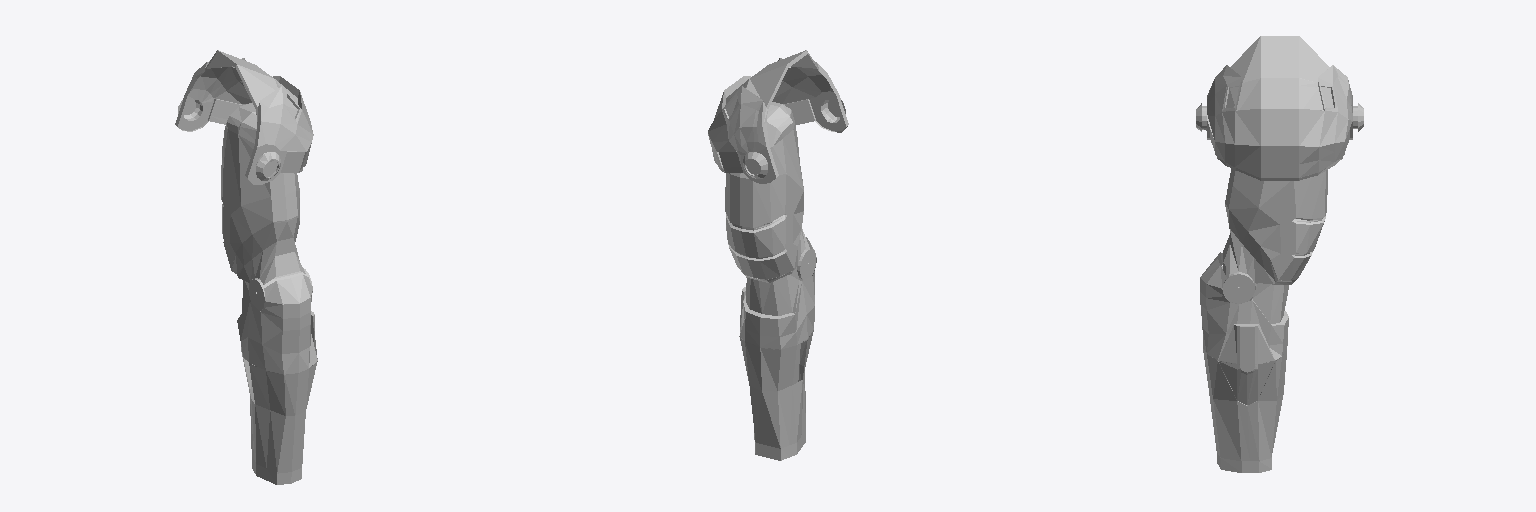
File: RightArm.obj
3 views of the same model, side by side, from view 1: azimuth 30°, elevation 25°; view 2: azimuth 150°, elevation 25°; view 3: azimuth 270°, elevation 25° (orthographic).
Parts seen in each view (by area): view 1: Mesh.005_Mesh.007_Mesh.005_Mesh.017_polySurface632_polySurface66, Mesh.004_Mesh.001_Mesh_Mesh.002_polySurface632_polySurface661, Mesh.002_Mesh.003_Mesh.003_Mesh.023_polySurface632_polySurface65, Mesh.007_Mesh.004_Mesh.001_Mesh.019_polySurface632_polySurface65, Mesh.003_Mesh.002_Mesh.004_Mesh.001_polySurface632_polySurface66, Mesh_Mesh_Mesh.002_Mesh.016_polySurface632_polySurface662; view 2: Mesh.005_Mesh.007_Mesh.005_Mesh.017_polySurface632_polySurface66, Mesh.003_Mesh.002_Mesh.004_Mesh.001_polySurface632_polySurface66, Mesh.002_Mesh.003_Mesh.003_Mesh.023_polySurface632_polySurface65, Mesh.007_Mesh.004_Mesh.001_Mesh.019_polySurface632_polySurface65, Mesh.004_Mesh.001_Mesh_Mesh.002_polySurface632_polySurface661, Mesh.006_Mesh.006_Mesh.006_Mesh.020_polySurface632_polySurface65; view 3: Mesh.005_Mesh.007_Mesh.005_Mesh.017_polySurface632_polySurface66, Mesh.002_Mesh.003_Mesh.003_Mesh.023_polySurface632_polySurface65, Mesh.004_Mesh.001_Mesh_Mesh.002_polySurface632_polySurface661, Mesh.003_Mesh.002_Mesh.004_Mesh.001_polySurface632_polySurface66, Mesh.007_Mesh.004_Mesh.001_Mesh.019_polySurface632_polySurface65, Mesh.006_Mesh.006_Mesh.006_Mesh.020_polySurface632_polySurface65, Mesh_Mesh_Mesh.002_Mesh.016_polySurface632_polySurface662.
Part boxes in pixels (x1,y1,x2,y2): Mesh.005_Mesh.007_Mesh.005_Mesh.017_polySurface632_polySurface66: (175, 50, 313, 184); Mesh.004_Mesh.001_Mesh_Mesh.002_polySurface632_polySurface661: (222, 103, 305, 284); Mesh.002_Mesh.003_Mesh.003_Mesh.023_polySurface632_polySurface65: (241, 311, 317, 484); Mesh.007_Mesh.004_Mesh.001_Mesh.019_polySurface632_polySurface65: (237, 274, 317, 374); Mesh.003_Mesh.002_Mesh.004_Mesh.001_polySurface632_polySurface66: (221, 158, 240, 269); Mesh_Mesh_Mesh.002_Mesh.016_polySurface632_polySurface662: (249, 268, 312, 310); Mesh.005_Mesh.007_Mesh.005_Mesh.017_polySurface632_polySurface66: (708, 50, 848, 183); Mesh.003_Mesh.002_Mesh.004_Mesh.001_polySurface632_polySurface66: (725, 173, 803, 279); Mesh.002_Mesh.003_Mesh.003_Mesh.023_polySurface632_polySurface65: (740, 287, 813, 460); Mesh.007_Mesh.004_Mesh.001_Mesh.019_polySurface632_polySurface65: (739, 237, 816, 349); Mesh.004_Mesh.001_Mesh_Mesh.002_polySurface632_polySurface661: (729, 102, 809, 282); Mesh.006_Mesh.006_Mesh.006_Mesh.020_polySurface632_polySurface65: (746, 267, 798, 315); Mesh.005_Mesh.007_Mesh.005_Mesh.017_polySurface632_polySurface66: (1196, 36, 1363, 180); Mesh.002_Mesh.003_Mesh.003_Mesh.023_polySurface632_polySurface65: (1203, 324, 1286, 472); Mesh.004_Mesh.001_Mesh_Mesh.002_polySurface632_polySurface661: (1223, 168, 1296, 284); Mesh.003_Mesh.002_Mesh.004_Mesh.001_polySurface632_polySurface66: (1259, 170, 1327, 280); Mesh.007_Mesh.004_Mesh.001_Mesh.019_polySurface632_polySurface65: (1200, 252, 1288, 360); Mesh.006_Mesh.006_Mesh.006_Mesh.020_polySurface632_polySurface65: (1252, 283, 1288, 323); Mesh_Mesh_Mesh.002_Mesh.016_polySurface632_polySurface662: (1223, 263, 1254, 303).
Size of the model in its own units: 7.09 by 31.24 by 11.5.